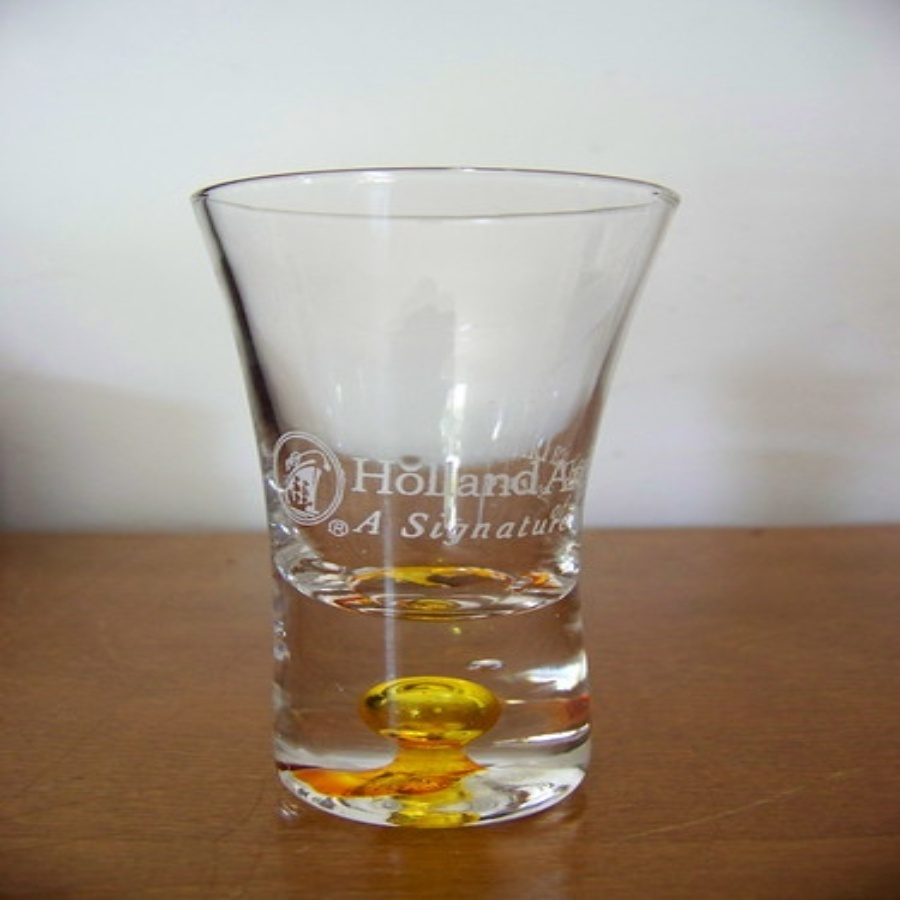whiskey: (241, 173, 675, 795)
